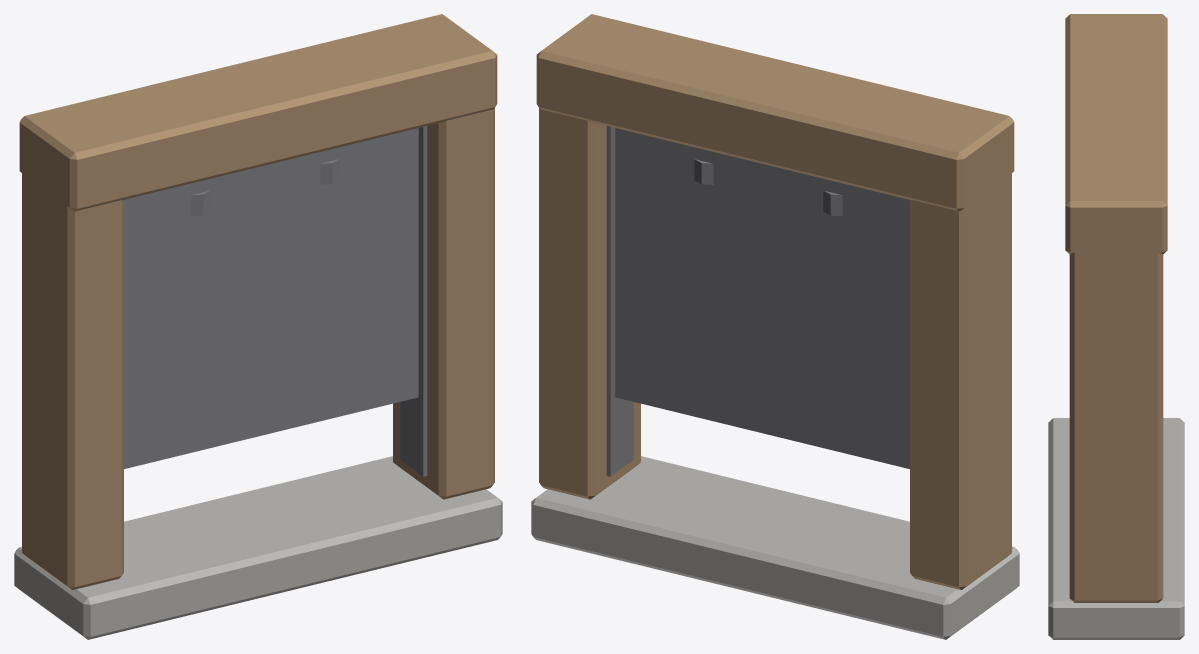
File: prop-sluice-gate.fbx
3 views of the same model, side by side, from view 1: azimuth 30°, elevation 25°; view 2: azimuth 150°, elevation 25°; view 3: azimuth 270°, elevation 25° (orthographic). The views are drawn at different scales.
Visible parts, largest first — view 1: prop-sluice-gate; view 2: prop-sluice-gate; view 3: prop-sluice-gate.
Part boxes in pixels (x1,y1,x2,y2): prop-sluice-gate: (14, 14, 502, 639); prop-sluice-gate: (531, 14, 1019, 639); prop-sluice-gate: (1048, 14, 1184, 639).
Size of the model in its own units: 1.06 by 1.14 by 0.32.
